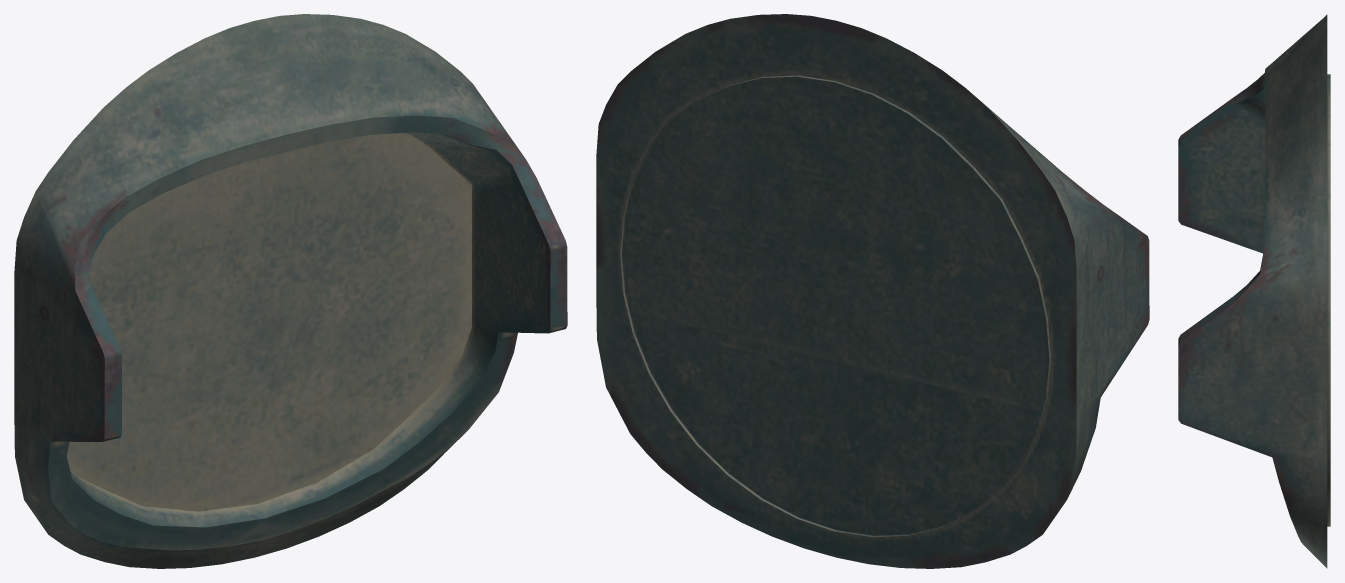
The model's file is Turret_01.glb.
The picture shows the model from 3 angles, left to right: view 1: azimuth 30°, elevation 25°; view 2: azimuth 150°, elevation 25°; view 3: azimuth 270°, elevation 25°; orthographic projection. The views are drawn at different scales.
Visible parts, largest first — view 1: set_0_group_0; view 2: set_0_group_0; view 3: set_0_group_0.
Boxes of the visible parts, x1,y1,x2,y2 form: set_0_group_0: (14,14,567,568); set_0_group_0: (596,14,1149,568); set_0_group_0: (1178,14,1330,568).
Bounding box in the file's own units: 1.64 × 1.76 × 0.4936.
1 material, 1 textured.
